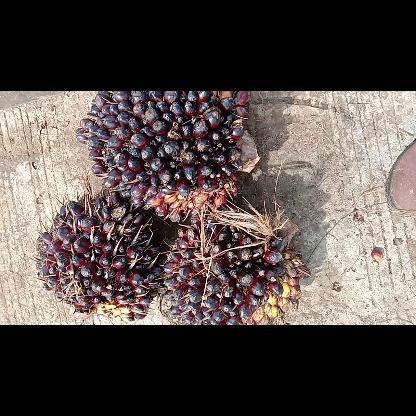TBS mentah: (73, 91, 262, 223), (156, 210, 312, 324), (34, 191, 160, 323)
